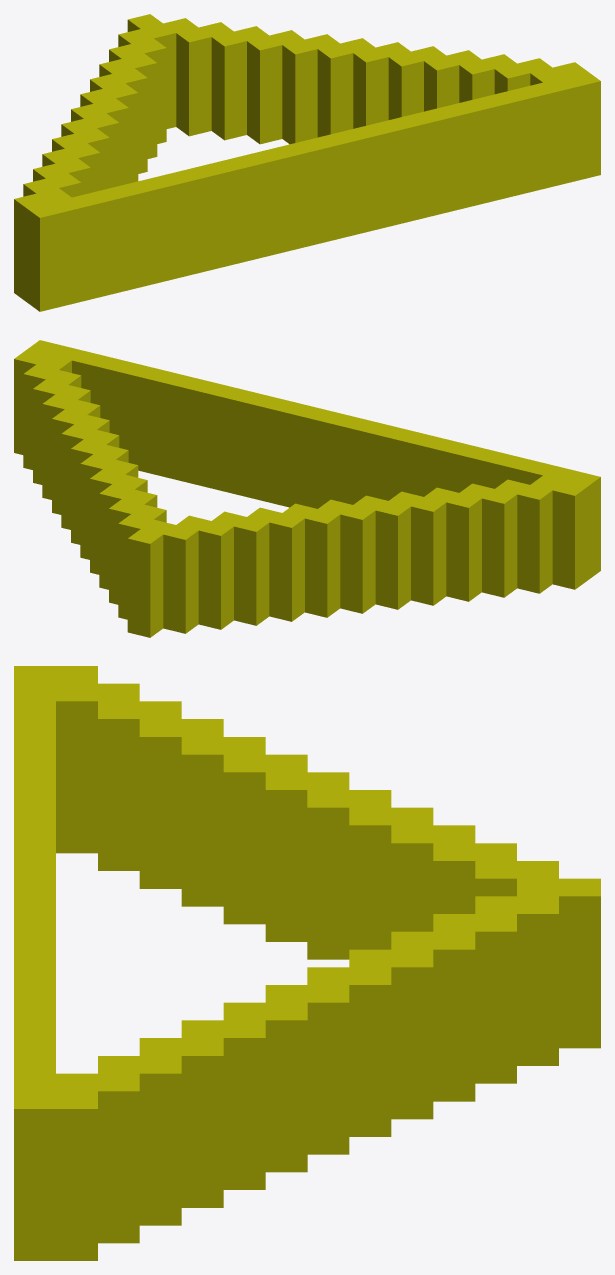
Rendered from UpDownButton.vox-1.obj.
The picture shows the model from 3 angles, top to bottom: view 1: azimuth 30°, elevation 25°; view 2: azimuth 150°, elevation 25°; view 3: azimuth 270°, elevation 25°; orthographic projection. The views are drawn at different scales.
Size of the model in its own units: 2.5 by 0.4 by 1.4.
1 material, 1 textured.
